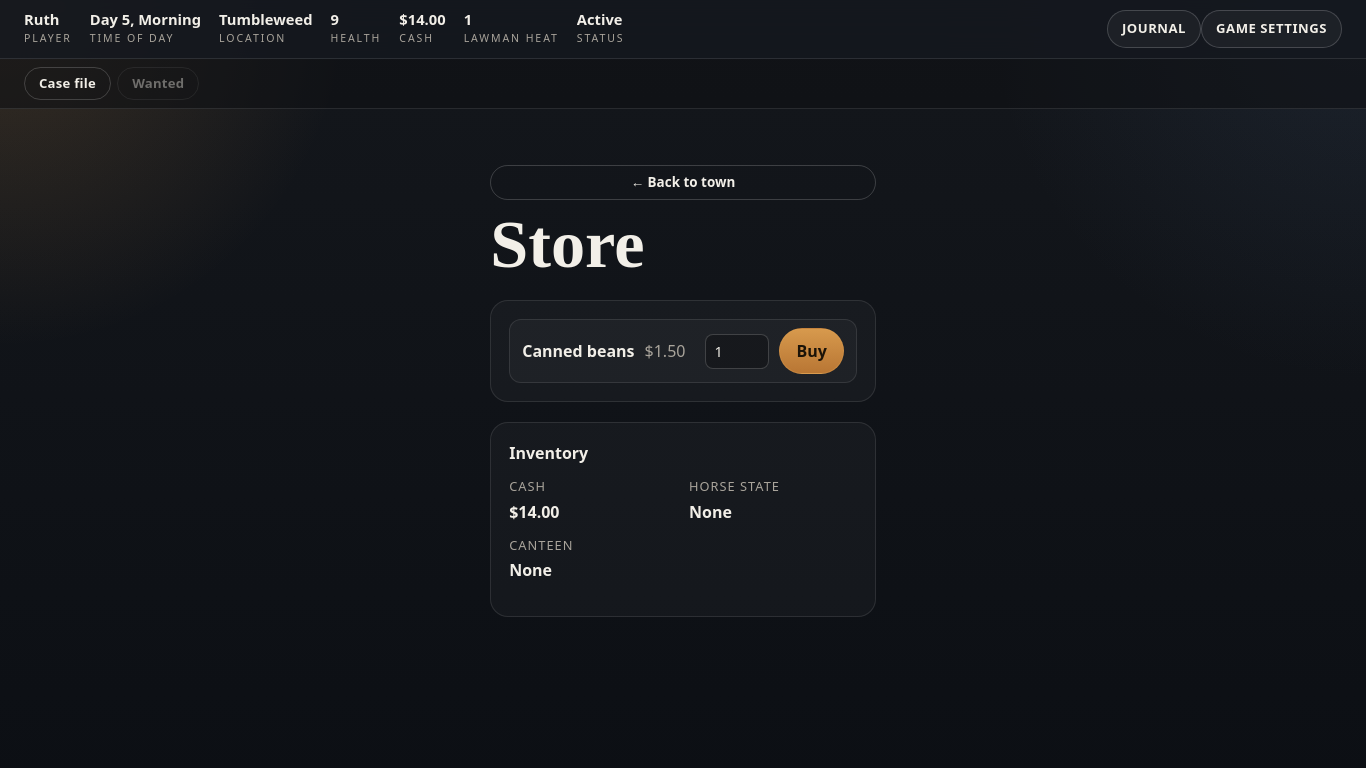
Store purchase feedback › reconciles an unsuccessful purchase result and refreshes only that game's resources
Click the button "Buy" at [812, 351], box [779,328,844,374]
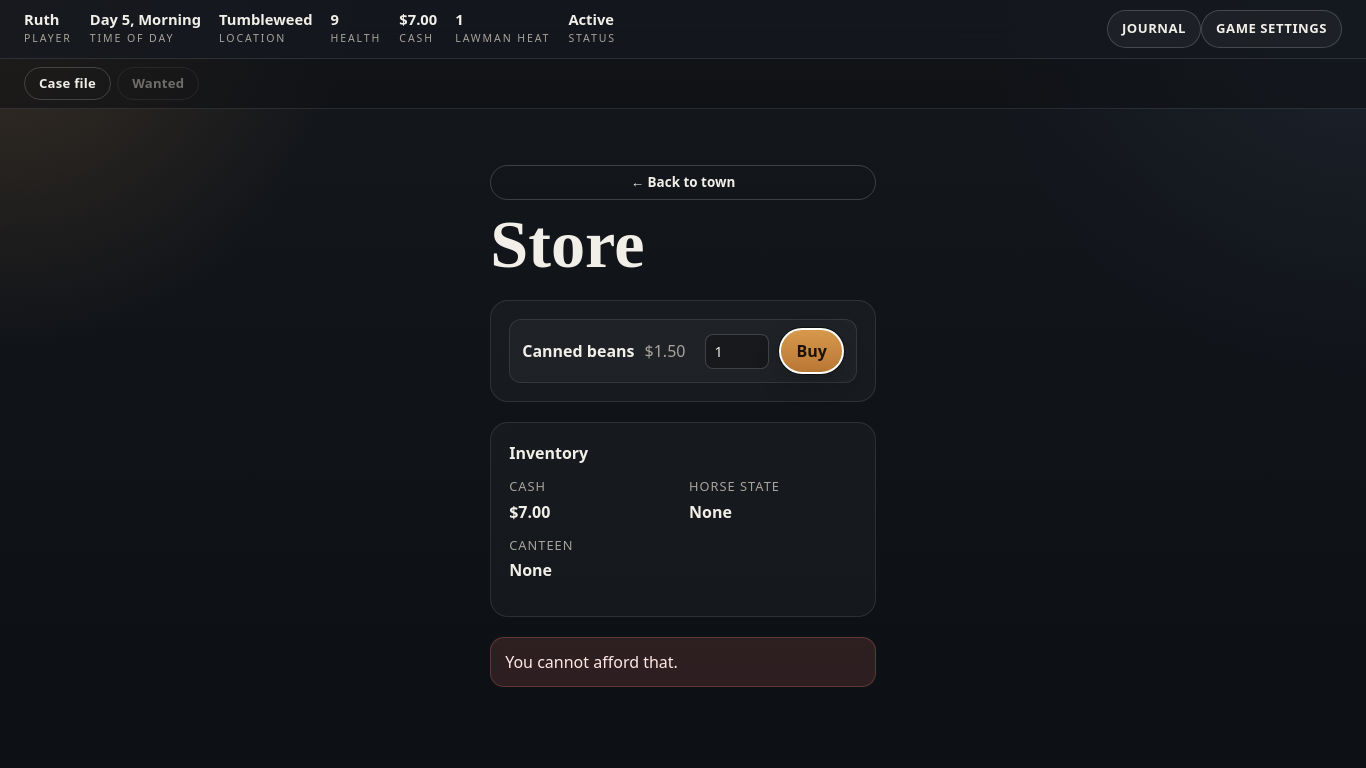
Expected: the text "You cannot afford that." is shown, [490,637,876,687]
Expected: the text "Inventory" shows "$7.00", [490,422,876,617]
